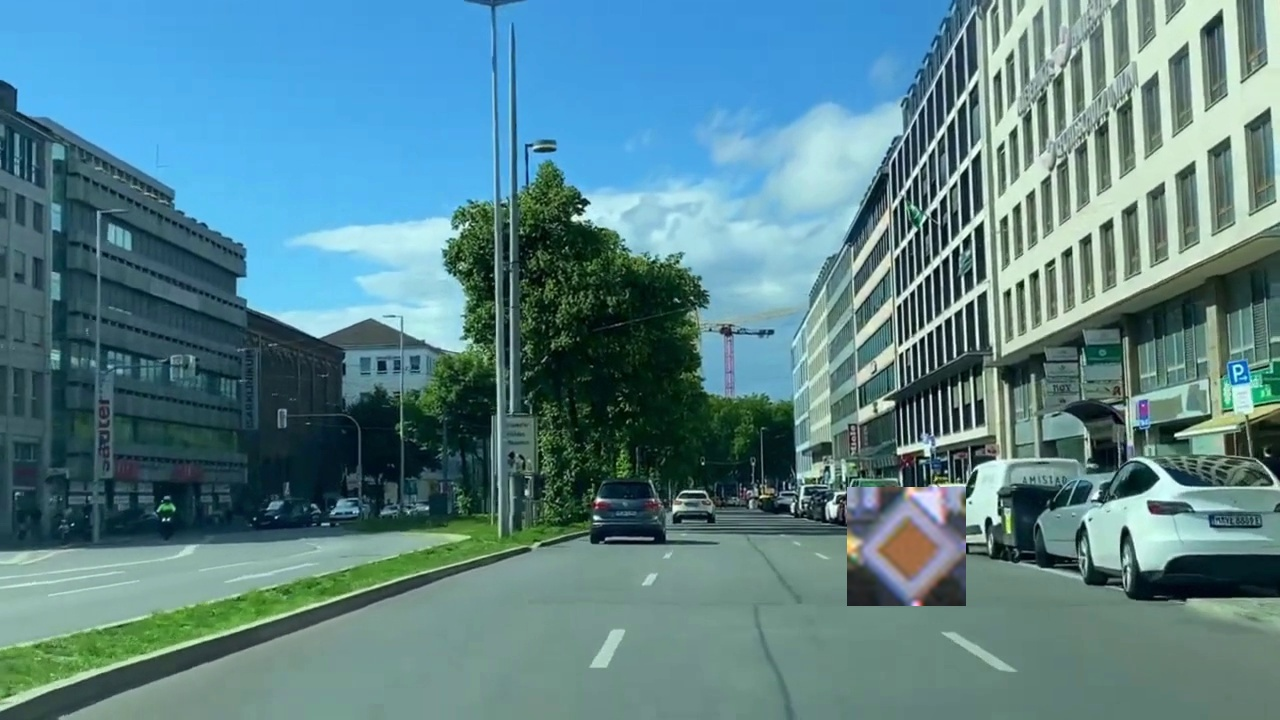Priority road: (847, 487, 966, 606)
